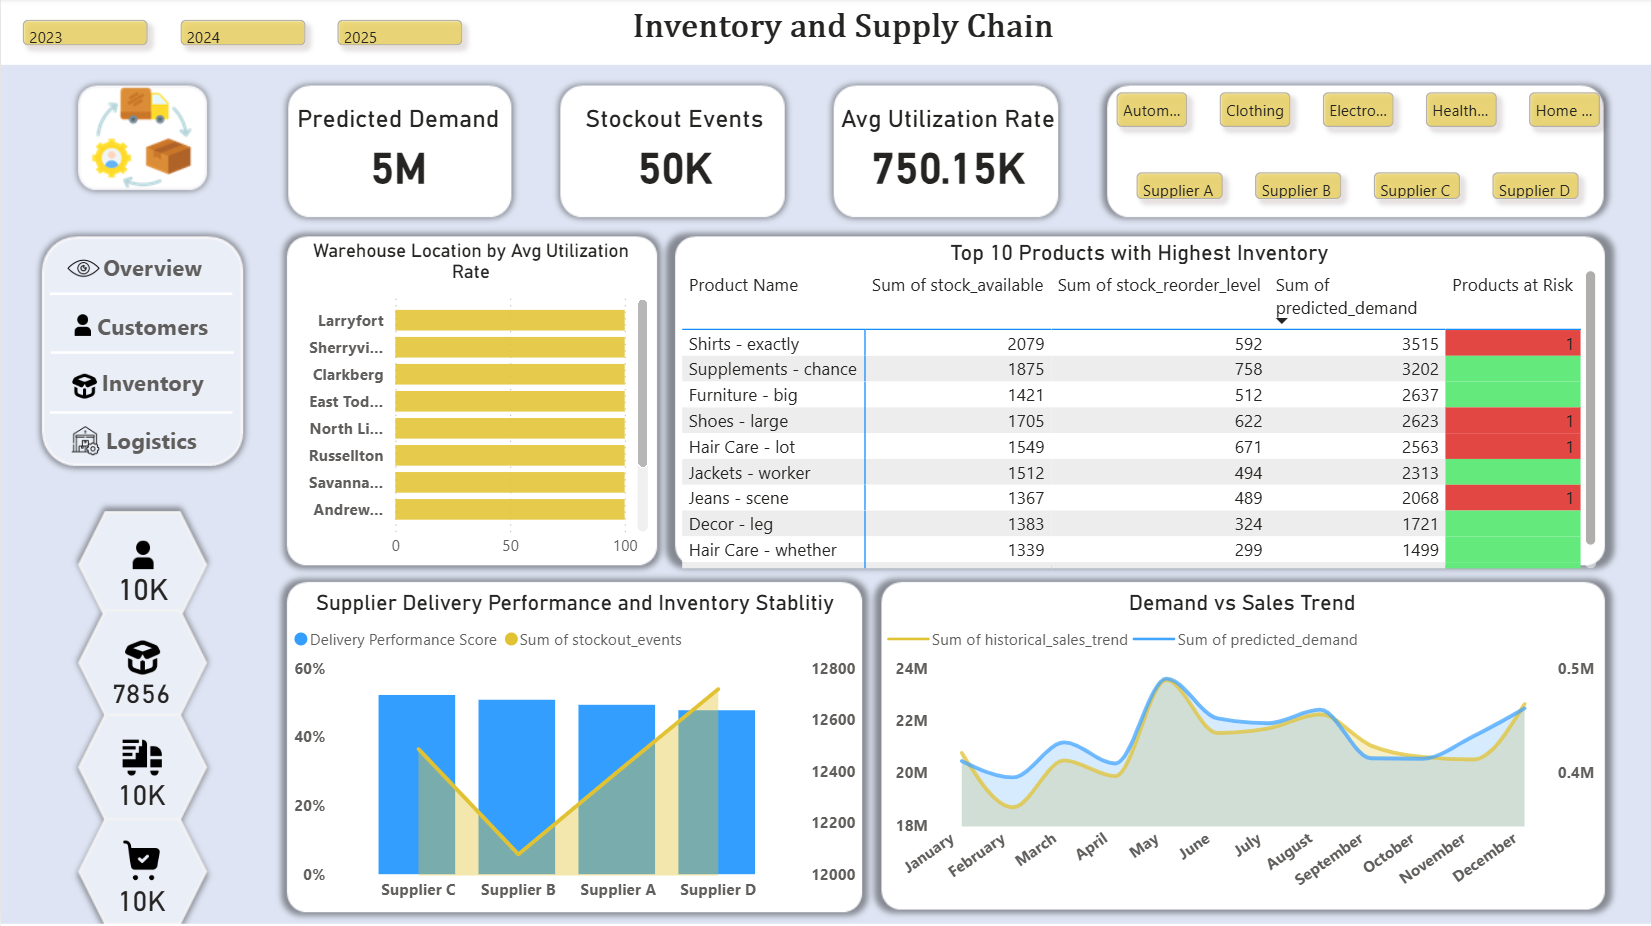

The page's visual inventory and layout, read from the dashboard file:
{"tool":"powerbi","page":{"name":"Supply Chain & Inventory","canvas":[1280,720],"ordinal":2},"visuals":[{"type":"image","box":[44.4,245.6,37.8,16.7],"z":0,"group":"g7"},{"type":"group","id":"g1","title":"Group 7","box":[78.9,421.1,61.1,291.1],"z":0},{"type":"group","id":"g2","title":"Group 3","box":[83.6,421.1,53.5,52.3],"z":0,"group":"g1"},{"type":"image","box":[88.3,421.1,44.2,22.1],"z":0,"group":"g2"},{"type":"image","box":[88.2,499,43,26.7],"z":0,"group":"g3"},{"type":"card","fields":{"Values":["final_eda_ready_orders.total_orders"]},"box":[85.9,604.8,47.7,26.7],"z":0,"group":"g4"},{"type":"image","box":[55.5,290,18.9,22.2],"z":1000,"group":"g7"},{"type":"card","fields":{"Values":["Count(final_eda_ready_orders.customer_id)"]},"box":[83.6,443.2,53.5,30.2],"z":1000,"group":"g2"},{"type":"areaChart","title":"Demand vs Sales Trend","fields":{"Category":["final_eda_ready_orders.delivery_date.Variation.Date Hierarchy.Month"],"Y":["Sum(final_eda_ready_orders.historical_sales_trend)"],"Y2":["Sum(final_eda_ready_orders.predicted_demand)"]},"box":[683.7,458.1,558.1,251.2],"z":1000},{"type":"group","id":"g3","title":"Group 4","box":[78.9,499,60.5,55.8],"z":1000,"group":"g1"},{"type":"card","fields":{"Values":["Count(final_eda_ready_orders.Product Name)"]},"box":[78.9,525.7,60.5,29.1],"z":1000,"group":"g3"},{"type":"image","box":[91.7,574.6,37.2,30.2],"z":1000,"group":"g4"},{"type":"pivotTable","title":"Top 10 Products with Highest Inventory","fields":{"Rows":["final_eda_ready_orders.Product Name"],"Values":["Sum(final_eda_ready_orders.stock_available)","Sum(final_eda_ready_orders.stock_reorder_level)","Sum(final_eda_ready_orders.predicted_demand)","final_eda_ready_orders.Products at Risk"]},"box":[523.3,187.2,718.6,260.5],"z":2000},{"type":"image","box":[54.4,330,22.2,25.6],"z":2000,"group":"g7"},{"type":"group","id":"g4","title":"Group 5","box":[85.9,574.6,47.7,57],"z":2000,"group":"g1"},{"type":"card","title":"Predicted Demand","fields":{"Values":["Sum(final_eda_ready_orders.predicted_demand)"]},"box":[222.2,82.2,172.2,72.2],"z":3000},{"type":"image","box":[50,196.7,26.7,25.6],"z":3000,"group":"g7"},{"type":"group","id":"g5","title":"Group 6","box":[85.9,647.8,47.7,65.1],"z":3000,"group":"g1"},{"type":"card","title":"Stockout Events","fields":{"Values":["Sum(final_eda_ready_orders.stockout_events)"]},"box":[436.7,82.2,172.2,72.2],"z":4000},{"type":"card","fields":{"Values":["final_eda_ready_orders.total_orders"]},"box":[85.9,686.2,47.7,26.7],"z":4000,"group":"g5"},{"type":"barChart","title":"Warehouse Location by Avg Utilization Rate","fields":{"Category":["final_eda_ready_orders.warehouse_location"],"Y":["Avg(final_eda_ready_orders.warehouse_utilization_rate)"]},"box":[222.1,187.2,284.9,255.8],"z":5000},{"type":"image","box":[90.6,647.8,37.2,41.9],"z":5009,"group":"g5"},{"type":"card","title":"Avg Utilization Rate","fields":{"Values":["Sum(final_eda_ready_orders.warehouse_utilization_rate)"]},"box":[645.6,82.2,177.8,72.2],"z":6000},{"type":"lineStackedColumnComboChart","title":"Supplier Delivery Performance and Inventory Stablitiy","fields":{"Category":["final_eda_ready_orders.supplier_name"],"Y":["final_eda_ready_orders.Delivery Performance Score"],"Y2":["Sum(final_eda_ready_orders.stockout_events)"]},"box":[222.1,458.1,446.5,251.2],"z":7000},{"type":"advancedSlicerVisual","fields":{"Values":["final_eda_ready_orders.category"]},"box":[847.7,55.8,411.6,61.6],"z":8000},{"type":"advancedSlicerVisual","fields":{"Values":["final_eda_ready_orders.delivery_date.Variation.Date Hierarchy.Year"]},"box":[0,0,377.9,54.7],"z":9000},{"type":"advancedSlicerVisual","fields":{"Values":["final_eda_ready_orders.supplier_name"]},"box":[864,118.6,377.9,55.8],"z":10000},{"type":"group","id":"g6","title":"Group 1","box":[37.9,223.3,143.3,104.4],"z":11000},{"type":"group","id":"g7","title":"Group 2","box":[44.4,196.7,37.8,158.9],"z":12000},{"type":"textbox","box":[484.9,2.3,350,48.8],"z":13000},{"type":"actionButton","box":[68.6,190.7,97.7,34.9],"z":14000},{"type":"shape","box":[37.9,223.3,141.9,12.8],"z":14000,"group":"g6"},{"type":"actionButton","box":[68.6,236,97.7,34.9],"z":15000},{"type":"shape","box":[39.1,268.6,141.9,12.8],"z":15000,"group":"g6"},{"type":"actionButton","box":[68.6,280.2,97.7,34.9],"z":16000},{"type":"shape","box":[37.9,315.2,141.9,12.8],"z":16000,"group":"g6"},{"type":"actionButton","box":[67.4,324.4,97.7,34.9],"z":17000}]}

Visuals, with their boxes in screenshot pixels (x1, y1, x2, y2), scaled from the page's 1280x720 canvas onto the 1651x926 screenshot:
image: Rect(57, 316, 106, 337)
"Group 7" group: Rect(102, 542, 181, 916)
"Group 3" group: Rect(108, 542, 177, 609)
image: Rect(114, 542, 171, 570)
image: Rect(114, 642, 169, 676)
card - final_eda_ready_orders.total_orders: Rect(111, 778, 172, 812)
image: Rect(72, 373, 96, 402)
card - Count(final_eda_ready_orders.customer_id): Rect(108, 570, 177, 609)
"Demand vs Sales Trend" areaChart: Rect(882, 589, 1602, 912)
"Group 4" group: Rect(102, 642, 180, 714)
card - Count(final_eda_ready_orders.Product Name): Rect(102, 676, 180, 714)
image: Rect(118, 739, 166, 778)
"Top 10 Products with Highest Inventory" pivotTable: Rect(675, 241, 1602, 576)
image: Rect(70, 424, 99, 457)
"Group 5" group: Rect(111, 739, 172, 812)
"Predicted Demand" card: Rect(287, 106, 509, 199)
image: Rect(64, 253, 99, 286)
"Group 6" group: Rect(111, 833, 172, 917)
"Stockout Events" card: Rect(563, 106, 785, 199)
card - final_eda_ready_orders.total_orders: Rect(111, 883, 172, 917)
"Warehouse Location by Avg Utilization Rate" barChart: Rect(286, 241, 654, 570)
image: Rect(117, 833, 165, 887)
"Avg Utilization Rate" card: Rect(833, 106, 1062, 199)
"Supplier Delivery Performance and Inventory Stablitiy" lineStackedColumnComboChart: Rect(286, 589, 862, 912)
advancedSlicerVisual - final_eda_ready_orders.category: Rect(1093, 72, 1624, 151)
advancedSlicerVisual - final_eda_ready_orders.delivery_date.Variation.Date Hierarchy.Year: Rect(0, 0, 487, 70)
advancedSlicerVisual - final_eda_ready_orders.supplier_name: Rect(1114, 153, 1602, 224)
"Group 1" group: Rect(49, 287, 234, 421)
"Group 2" group: Rect(57, 253, 106, 457)
textbox: Rect(625, 3, 1077, 66)
actionButton: Rect(88, 245, 215, 290)
shape: Rect(49, 287, 232, 304)
actionButton: Rect(88, 304, 215, 348)
shape: Rect(50, 345, 233, 362)
actionButton: Rect(88, 360, 215, 405)
shape: Rect(49, 405, 232, 422)
actionButton: Rect(87, 417, 213, 462)
